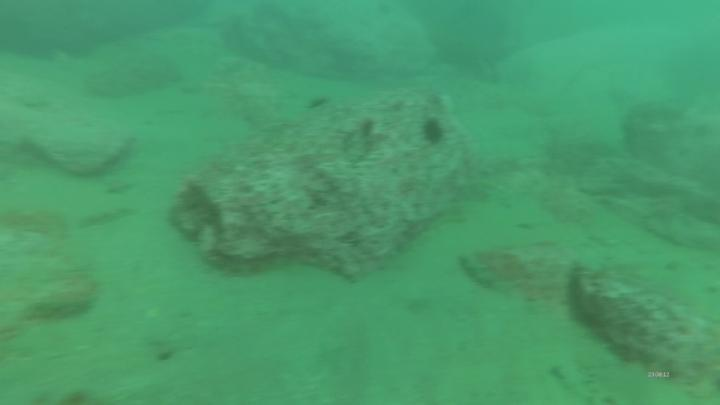echinus: (421, 116, 451, 150)
